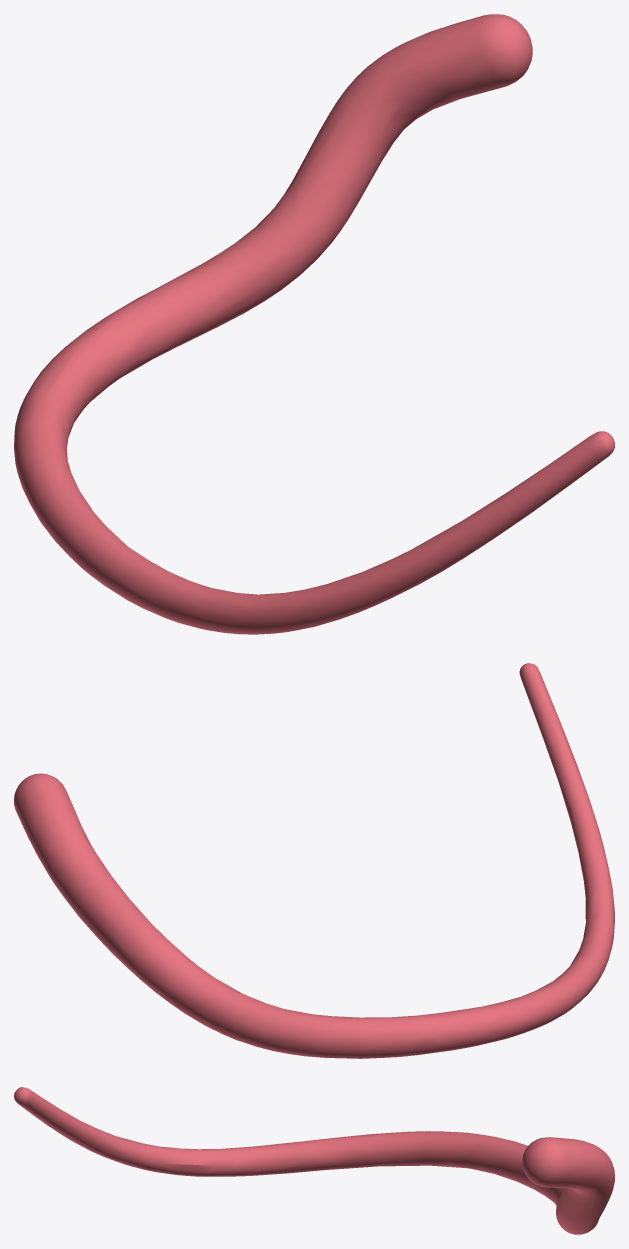
Rendered from fma43891_fj2077.glb.
The picture shows the model from 3 angles, top to bottom: view 1: azimuth 30°, elevation 25°; view 2: azimuth 150°, elevation 25°; view 3: azimuth 270°, elevation 25°; orthographic projection. The views are drawn at different scales.
Visible parts, largest first — view 1: FMA43891_FJ2077; view 2: FMA43891_FJ2077; view 3: FMA43891_FJ2077.
Boxes of the visible parts, x1,y1,x2,y2 form: FMA43891_FJ2077: [14, 14, 614, 634]; FMA43891_FJ2077: [14, 663, 614, 1058]; FMA43891_FJ2077: [14, 1087, 614, 1234].
Bounding box in the file's own units: 0.0369 × 0.0183 × 0.0473.
